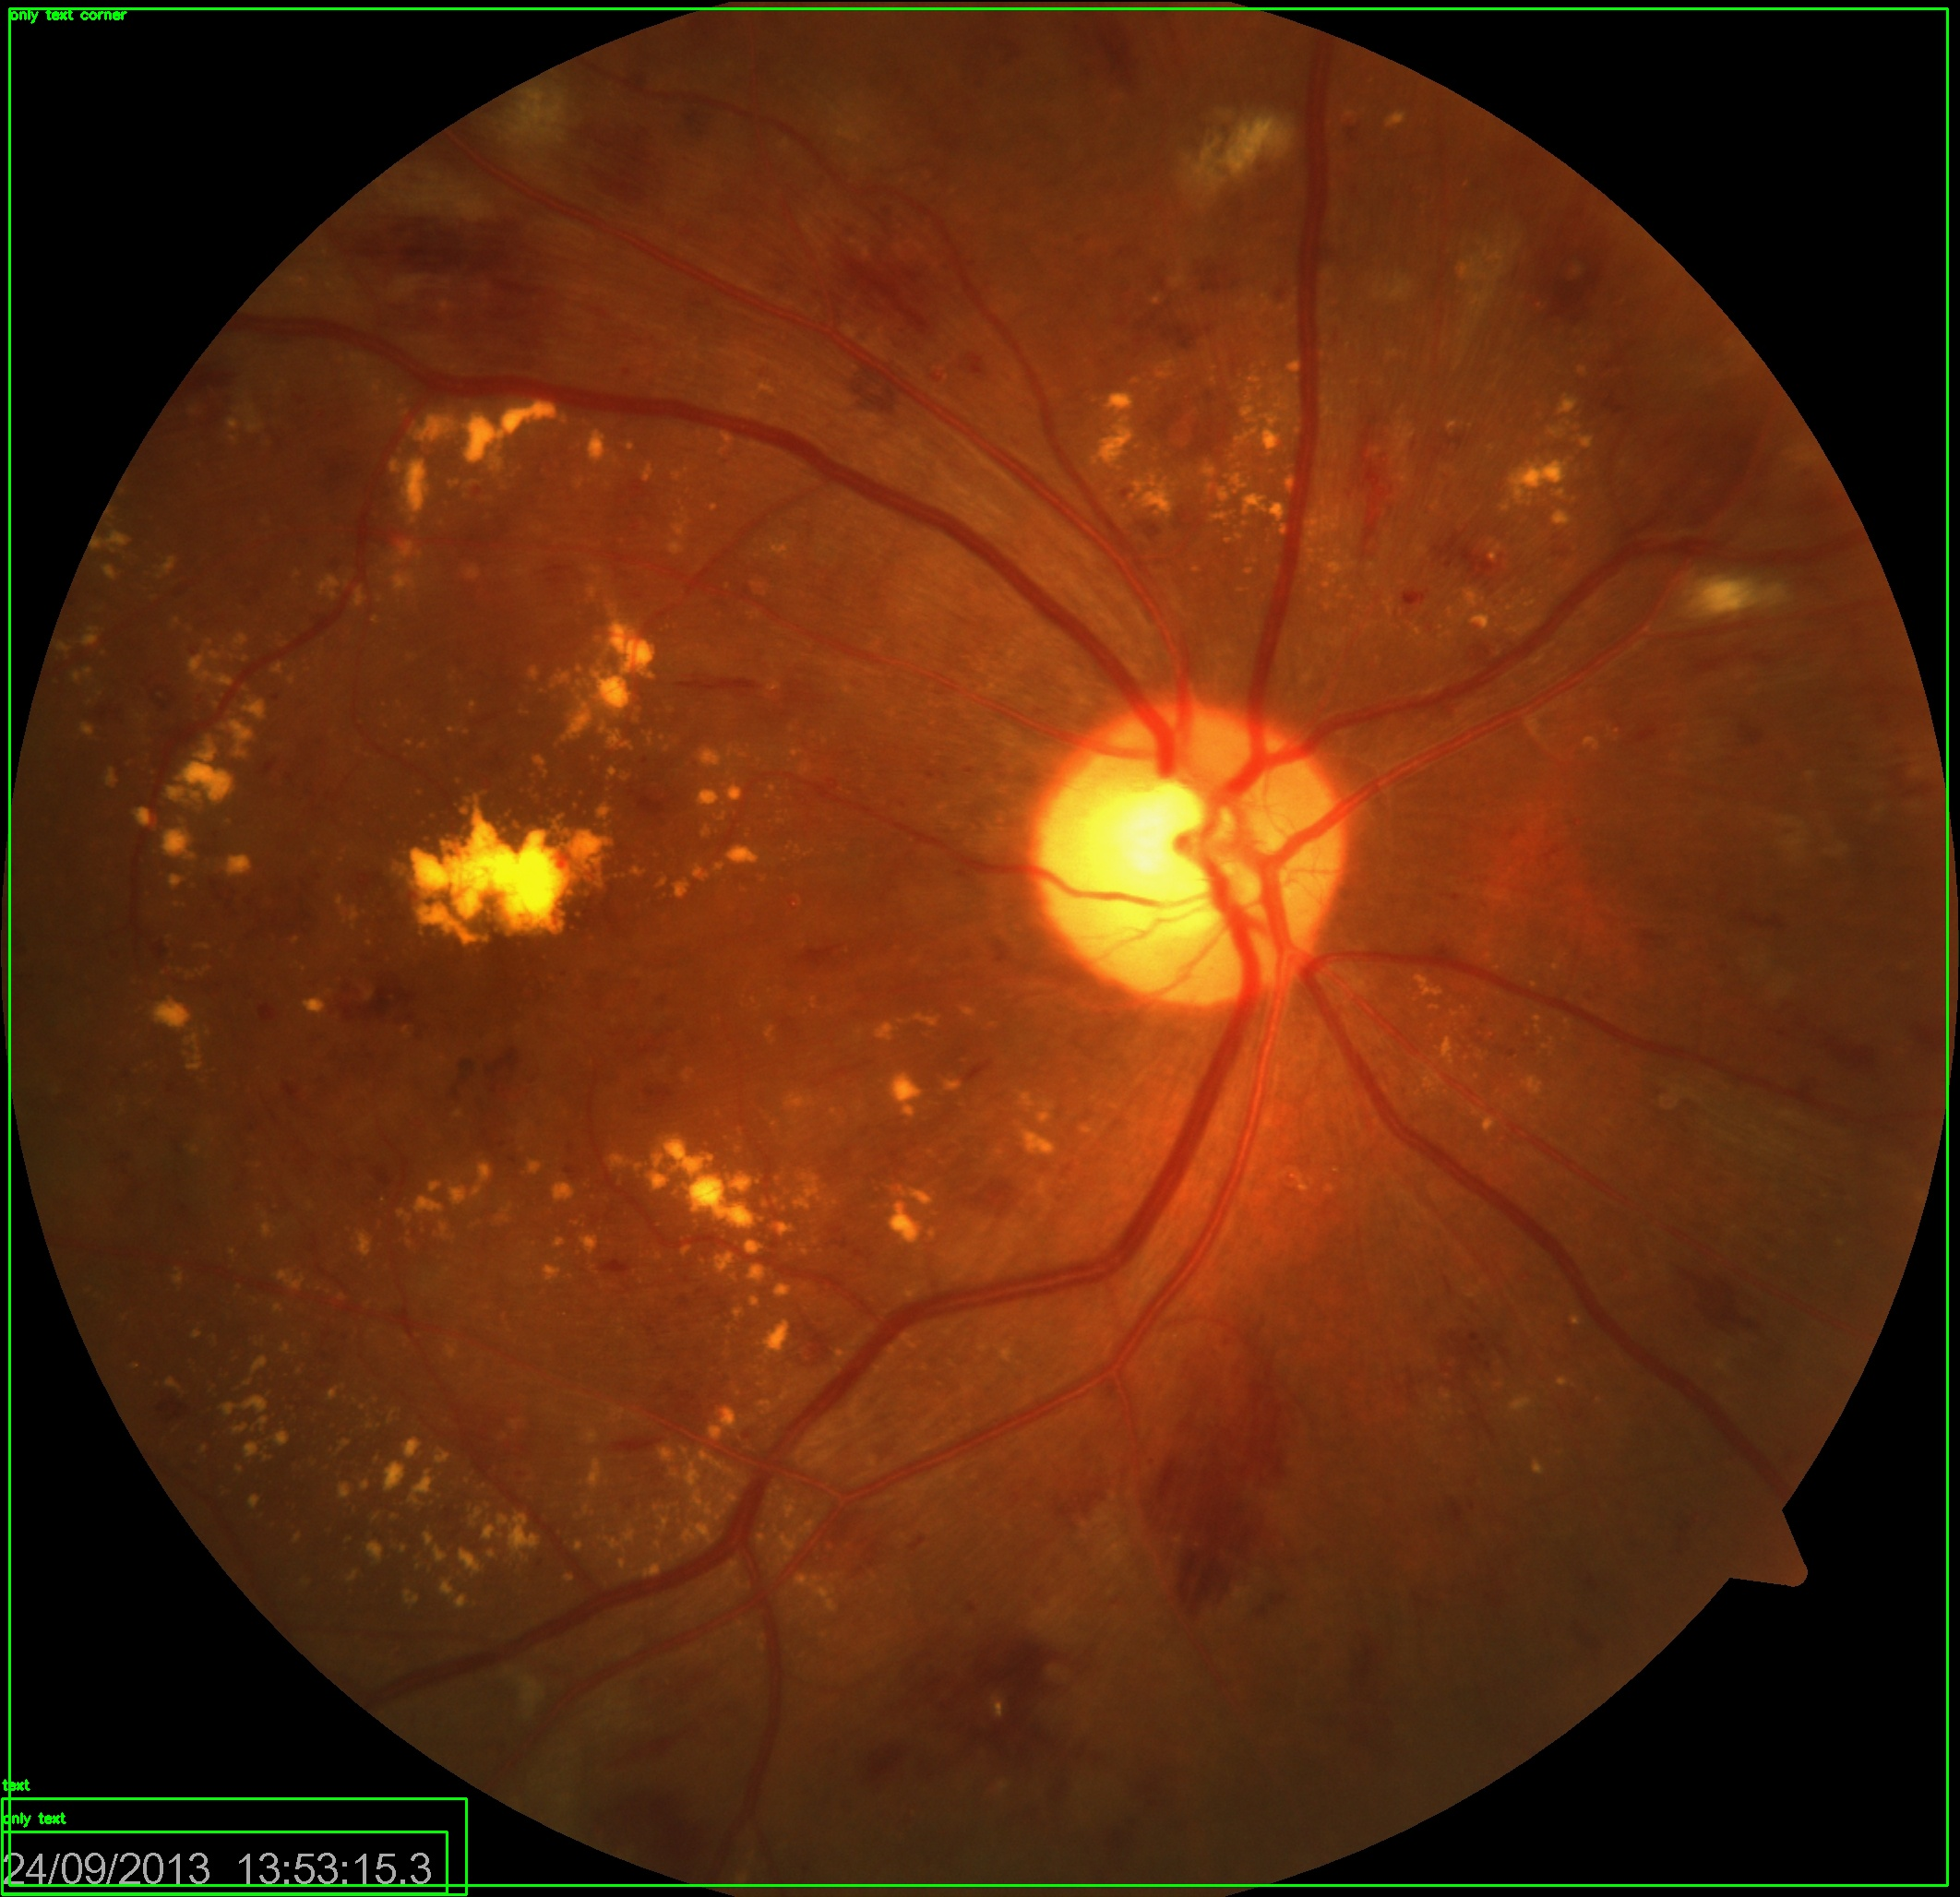text: (9, 9, 1948, 1885), (2, 1799, 465, 1894), (2, 1832, 446, 1894)
